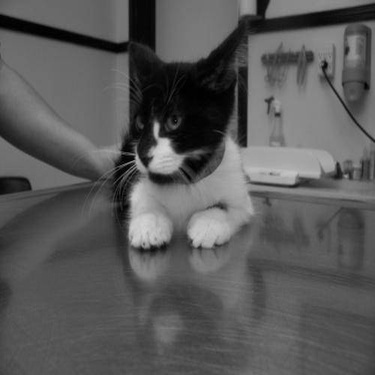cat: (48, 21, 281, 260)
